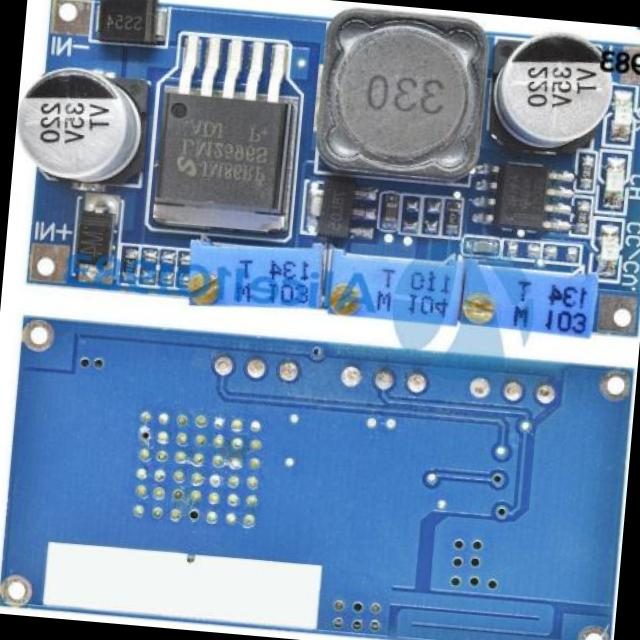IC: (145, 58, 300, 230), (476, 160, 560, 232), (306, 180, 366, 239)
LED: (608, 88, 640, 136), (602, 156, 626, 206), (598, 225, 620, 270)
capacitor: (488, 29, 614, 153), (14, 65, 142, 184), (377, 197, 398, 230), (465, 236, 498, 256)
diode: (70, 204, 117, 275), (97, 0, 157, 44)
potentiometer: (324, 242, 466, 324), (186, 236, 326, 318), (462, 265, 593, 342)
resistor: (116, 248, 140, 296), (572, 154, 599, 186), (439, 199, 458, 236), (570, 201, 590, 236)
